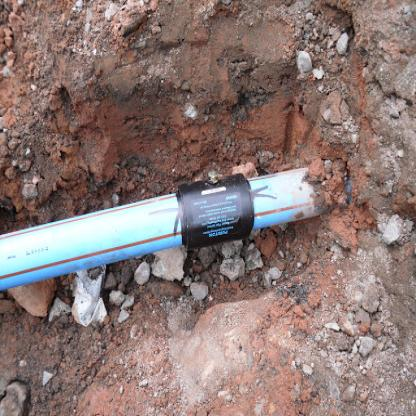PVC: (0, 164, 322, 290)
